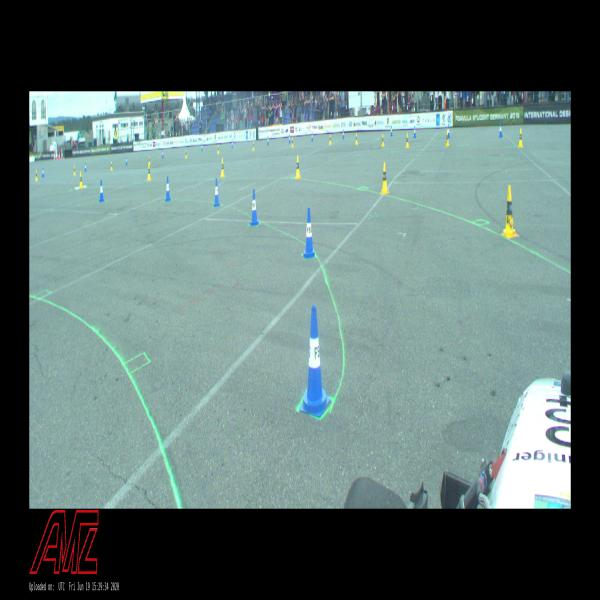blue_cone: (300, 305, 330, 417), (303, 208, 315, 258), (250, 189, 258, 226), (213, 178, 220, 207), (165, 176, 171, 201), (99, 180, 104, 202), (499, 122, 502, 137), (447, 125, 450, 138), (413, 126, 416, 137), (84, 162, 87, 172), (390, 126, 393, 136), (267, 136, 269, 146), (126, 156, 128, 165), (342, 129, 344, 138), (311, 132, 313, 141), (289, 134, 291, 143), (42, 168, 44, 176), (162, 150, 164, 158), (201, 144, 203, 152), (232, 140, 234, 148)
yellow_cone: (501, 185, 518, 239), (381, 162, 389, 193), (295, 155, 301, 178), (220, 158, 225, 177), (518, 128, 523, 147), (79, 171, 83, 188), (445, 130, 449, 147), (147, 164, 151, 180), (406, 133, 409, 148), (355, 132, 358, 145), (35, 170, 38, 181), (329, 134, 332, 145), (73, 165, 76, 175), (110, 161, 113, 170), (148, 156, 151, 165), (382, 134, 384, 146), (292, 137, 294, 147), (252, 141, 254, 151), (218, 145, 220, 154), (185, 150, 187, 158)
